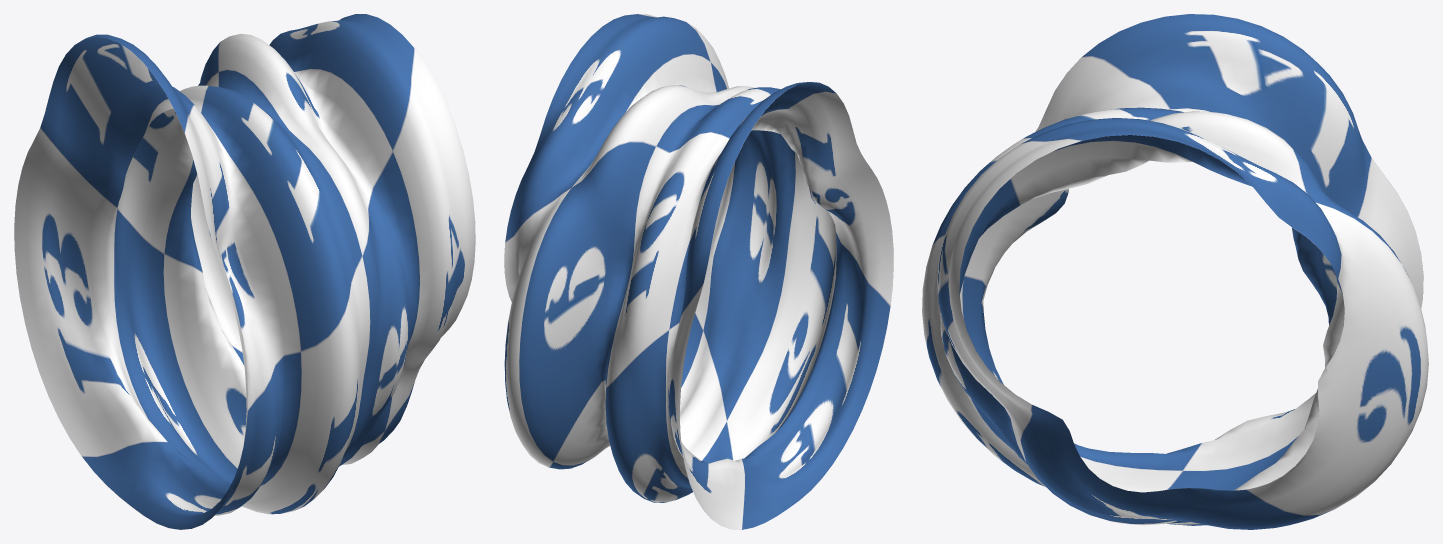
The model's file is Ring1.fbx.
The picture shows the model from 3 angles, left to right: view 1: azimuth 30°, elevation 25°; view 2: azimuth 150°, elevation 25°; view 3: azimuth 270°, elevation 25°; orthographic projection. The views are drawn at different scales.
Parts seen in each view (by area): view 1: SM_e_Useful_Ring001; view 2: SM_e_Useful_Ring001; view 3: SM_e_Useful_Ring001.
Boxes of the visible parts, x1,y1,x2,y2 form: SM_e_Useful_Ring001: (14,14,475,529); SM_e_Useful_Ring001: (504,14,893,529); SM_e_Useful_Ring001: (922,14,1428,529).
Bounding box in the file's own units: 56.31 × 107 × 107.
